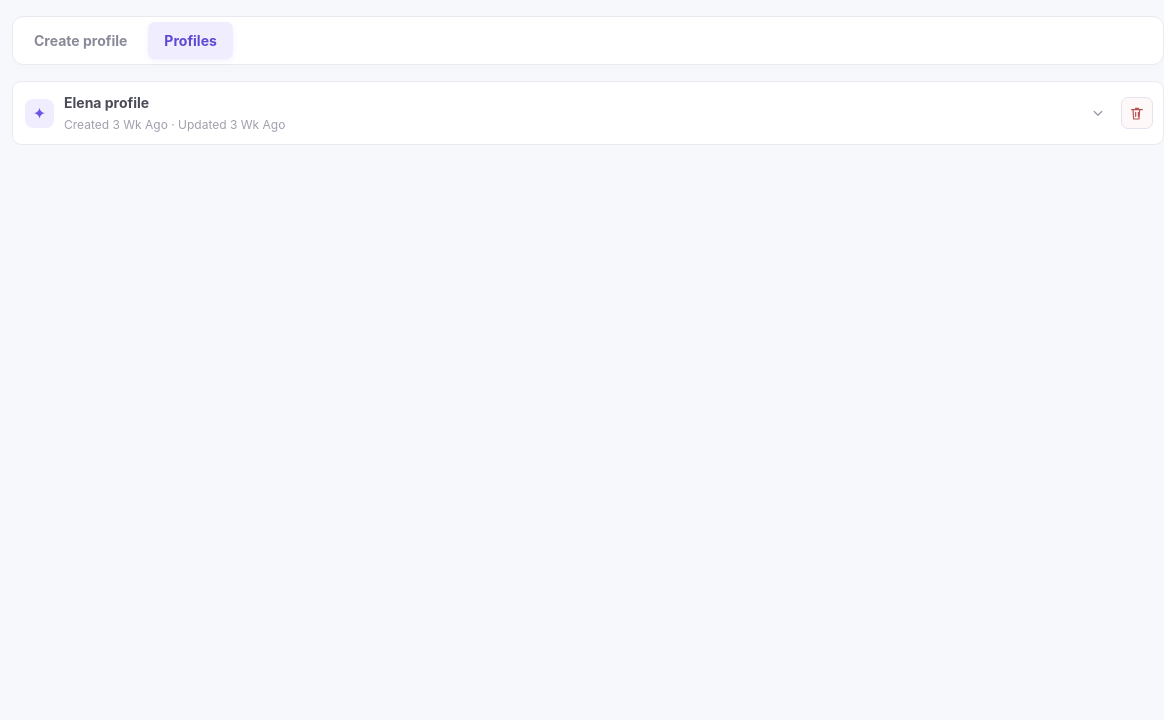
render profile setup › expands profile data into an inline editor without an edit icon
Click the button with aria-label "Show Elena profile details": (107,102) [13,82,1115,144]
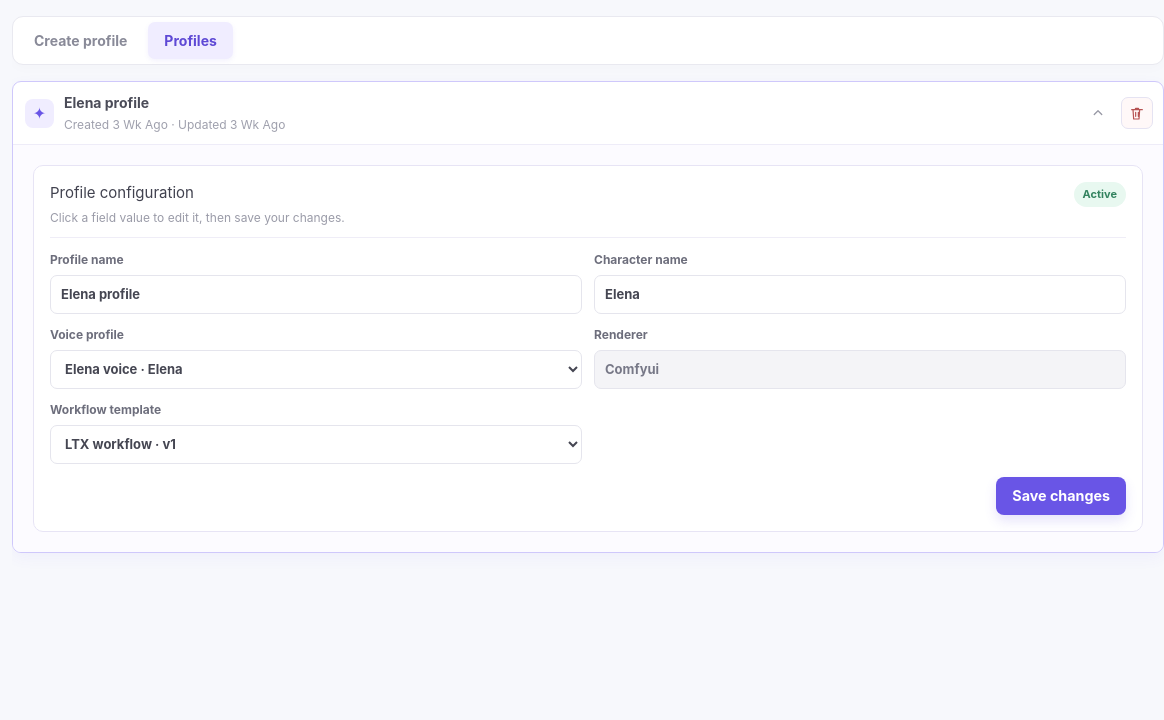
Now the form named "Save changes" is shown, box [33,165,1143,532]
Now the element that starts with "Profile configuration" is shown, box [13,144,1163,552]
Now the field labelled "Profile name" holds "Elena profile", box [50,275,582,314]
Select "Not assigned" in the dropdown labelled "Voice profile": (316,369) [50,350,582,389]
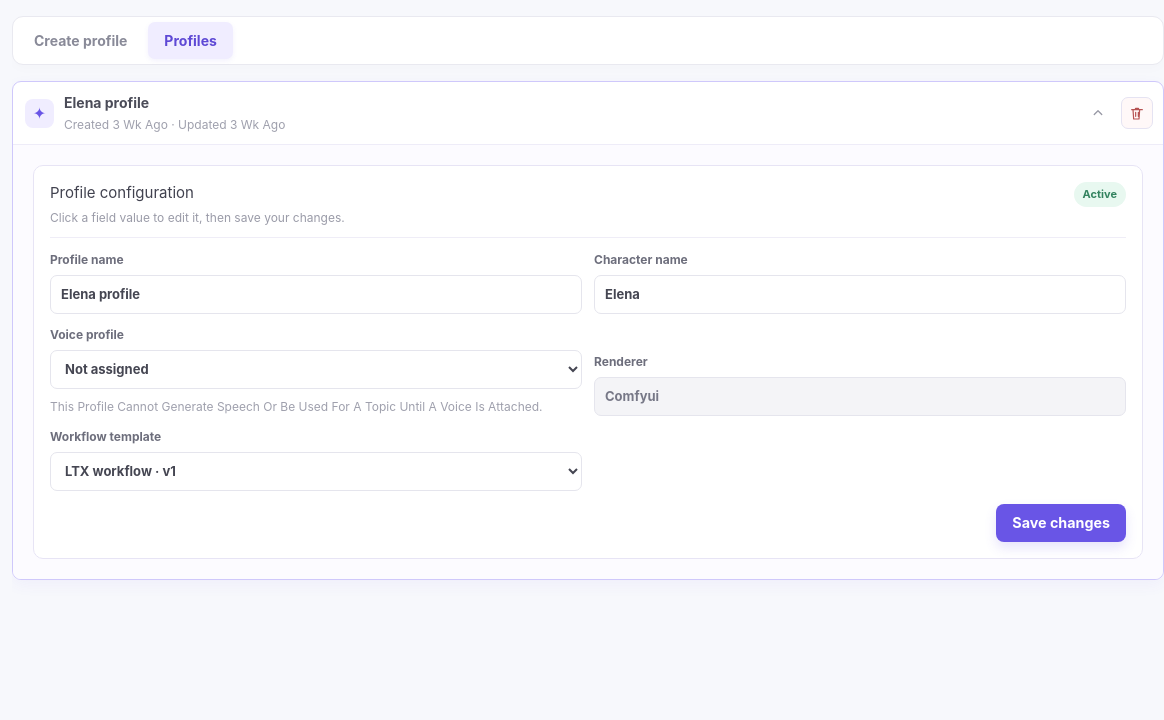
Click the button "Save changes": (1061,523) [996,504,1126,542]
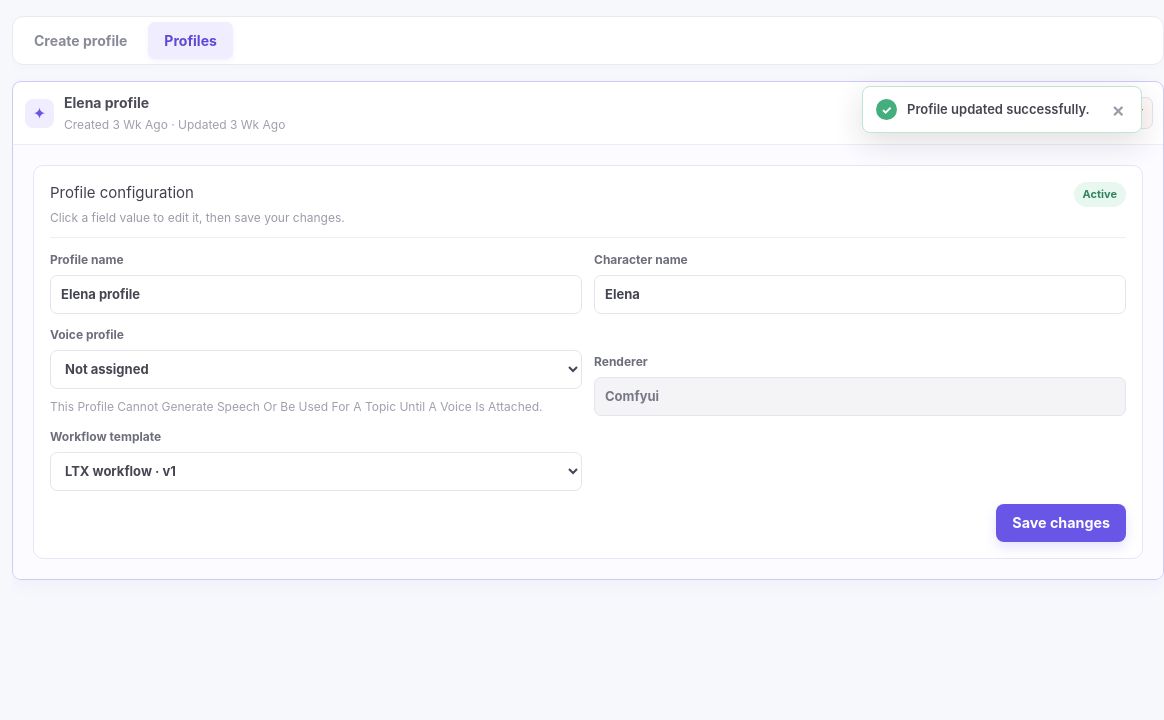
Now the text "Profile updated successfully." is shown, box [907,100,1090,119]
